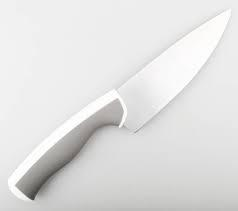Knife: (7, 7, 231, 200)
